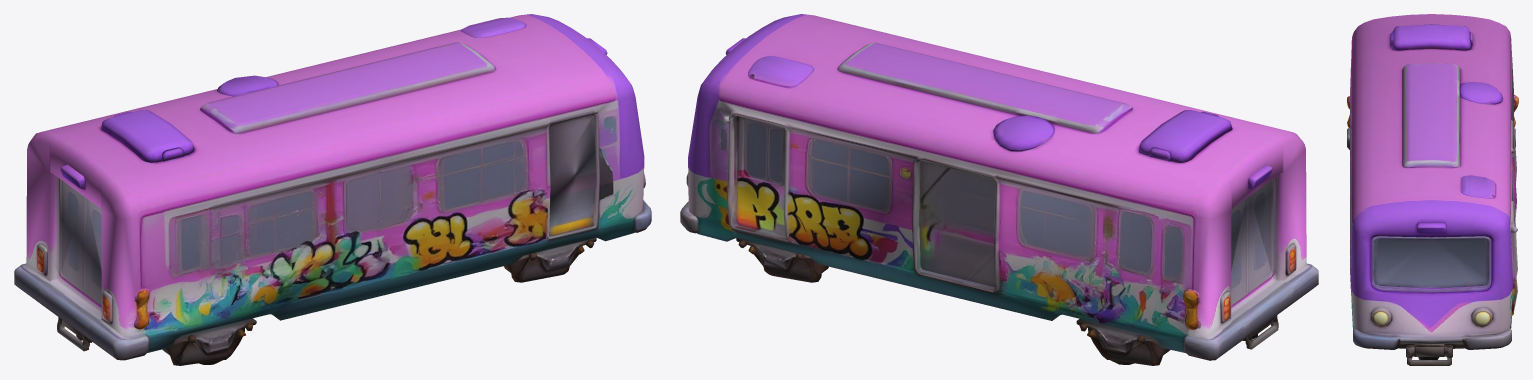
File: train-purple.glb
3 views of the same model, side by side, from view 1: azimuth 30°, elevation 25°; view 2: azimuth 150°, elevation 25°; view 3: azimuth 270°, elevation 25° (orthographic). The views are drawn at different scales.
Visible parts, largest first — view 1: tripo_node_36bd30dc-b04f-4427-9338-a8714f5690a0; view 2: tripo_node_36bd30dc-b04f-4427-9338-a8714f5690a0; view 3: tripo_node_36bd30dc-b04f-4427-9338-a8714f5690a0.
Boxes of the visible parts, <box> form: tripo_node_36bd30dc-b04f-4427-9338-a8714f5690a0: <box>14,14,651,365</box>; tripo_node_36bd30dc-b04f-4427-9338-a8714f5690a0: <box>680,14,1318,365</box>; tripo_node_36bd30dc-b04f-4427-9338-a8714f5690a0: <box>1347,14,1518,365</box>.
Bounding box in the file's own units: 0.998 × 0.377 × 0.3418.
Materials: 1 (1 with a texture image).
